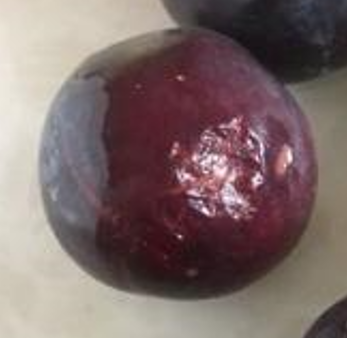plum_C: (37, 27, 319, 302)
